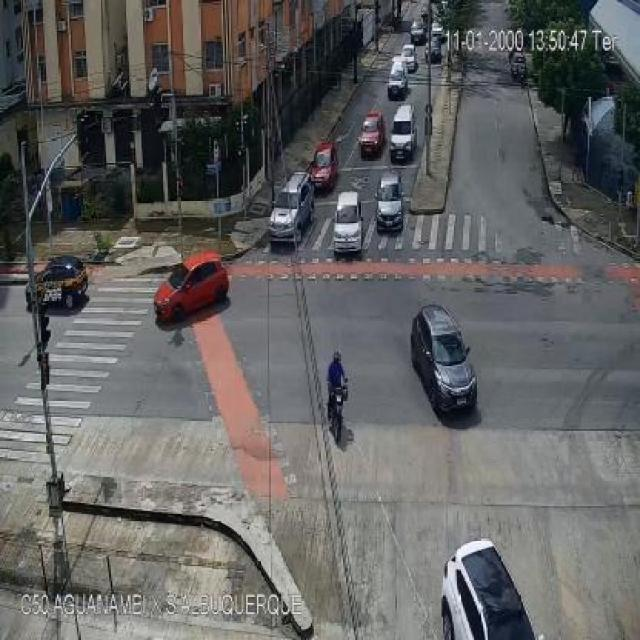Car: (425, 536, 545, 640), (408, 304, 486, 427), (158, 248, 234, 332), (268, 164, 320, 250), (34, 258, 89, 320), (376, 166, 406, 239), (335, 188, 366, 258), (313, 132, 338, 191), (358, 107, 384, 162), (387, 60, 410, 100), (400, 44, 416, 68), (412, 20, 426, 44)
Cycle: (318, 349, 362, 439)
Van: (388, 103, 420, 162)
